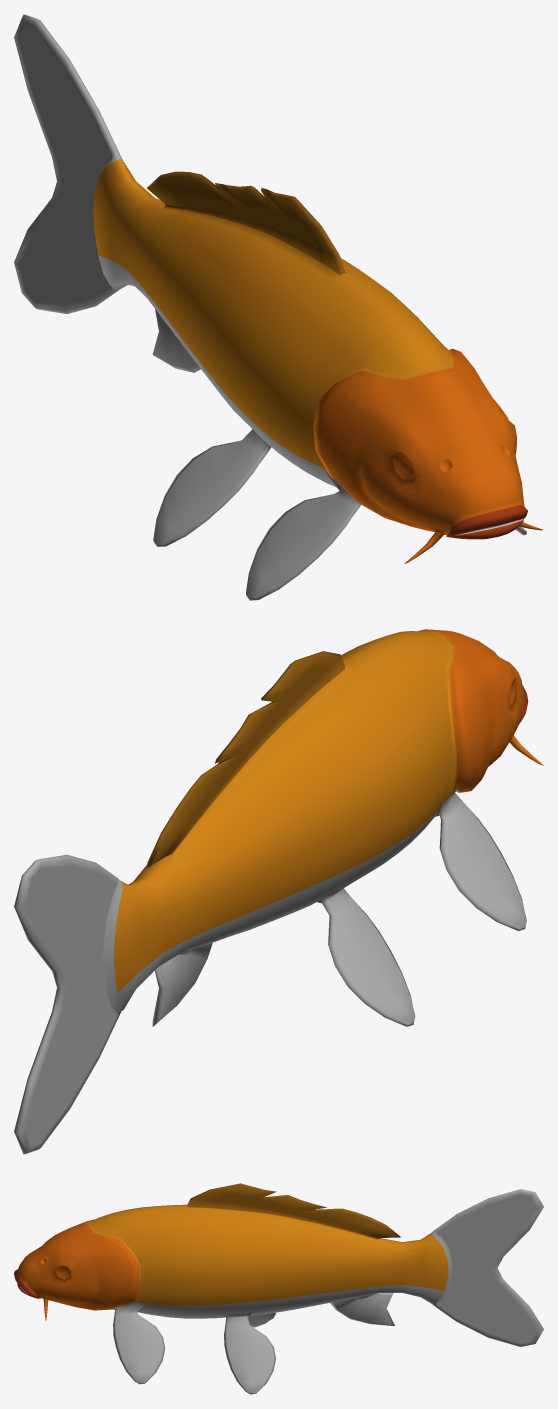
Rendered from koi_fish_koi_fish.obj.
The picture shows the model from 3 angles, top to bottom: view 1: azimuth 30°, elevation 25°; view 2: azimuth 150°, elevation 25°; view 3: azimuth 270°, elevation 25°; orthographic projection. The views are drawn at different scales.
Parts seen in each view (by area): view 1: koi_fish; view 2: koi_fish; view 3: koi_fish.
Part boxes in pixels (x1=…): koi_fish: x1=14, y1=14, x2=542, y2=600; koi_fish: x1=14, y1=629, x2=543, y2=1154; koi_fish: x1=14, y1=1183, x2=543, y2=1394.
Bounding box in the file's own units: 0.0981 × 0.1111 × 0.3006.
